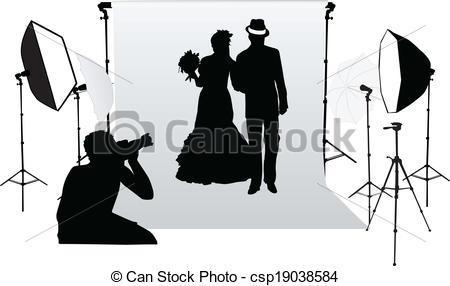person: (46, 124, 161, 250), (168, 23, 245, 182), (235, 15, 290, 194)
